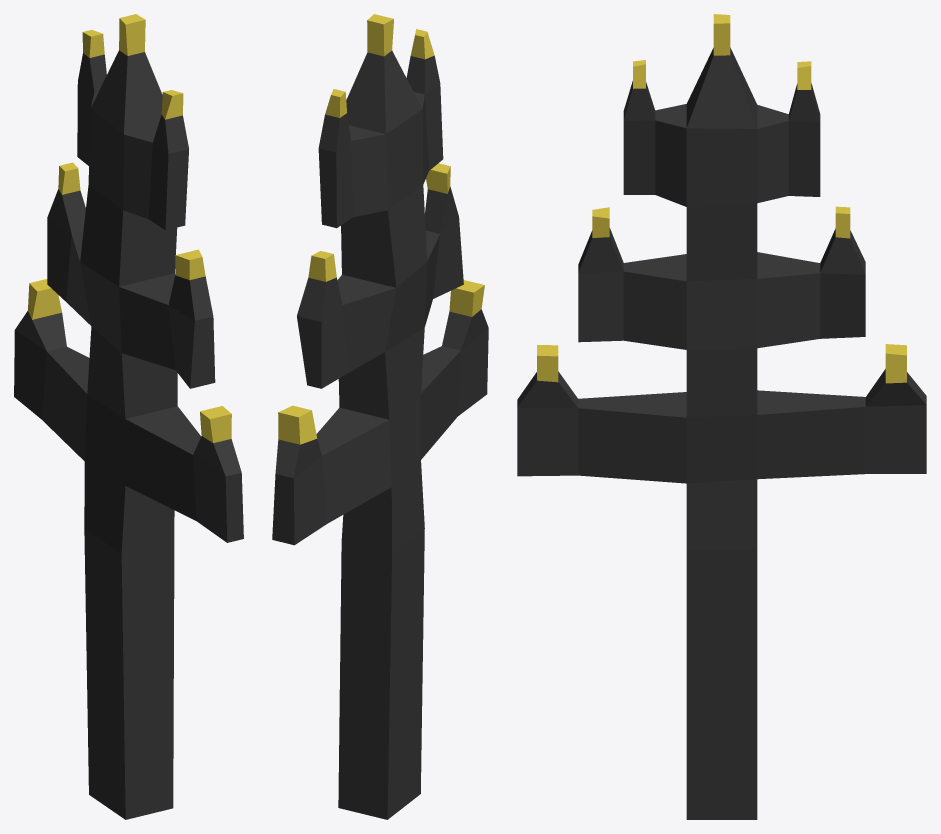
File: Candleholder.fbx
3 renders of one model, left to right at view 1: azimuth 30°, elevation 25°; view 2: azimuth 150°, elevation 25°; view 3: azimuth 270°, elevation 25°, orthographic.
Visible parts, largest first — view 1: Candleholder; view 2: Candleholder; view 3: Candleholder.
Boxes of the visible parts, x1,y1,x2,y2 form: Candleholder: (14, 14, 243, 819); Candleholder: (272, 14, 488, 819); Candleholder: (517, 14, 926, 819).
Bounding box in the file's own units: 15.48 × 182 × 85.45.
